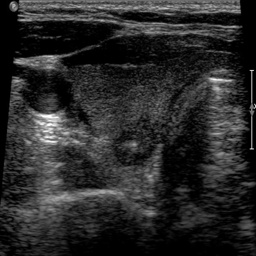mass: (112, 115, 158, 167)
